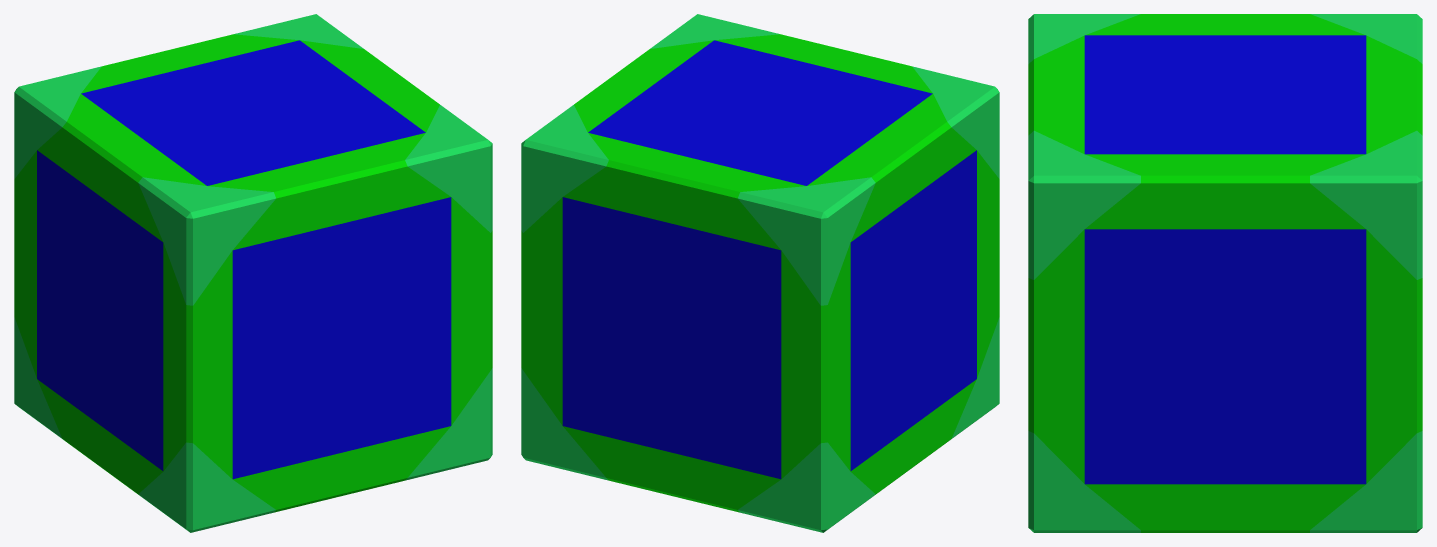
Rendered from nomal_block.fbx.
The picture shows the model from 3 angles, left to right: view 1: azimuth 30°, elevation 25°; view 2: azimuth 150°, elevation 25°; view 3: azimuth 270°, elevation 25°; orthographic projection. The views are drawn at different scales.
Visible parts, largest first — view 1: pCube2; view 2: pCube2; view 3: pCube2.
Boxes of the visible parts, x1,y1,x2,y2 form: pCube2: (14,14,492,532); pCube2: (521,14,999,532); pCube2: (1028,14,1422,532).
Bounding box in the file's own units: 1 × 1 × 1.
